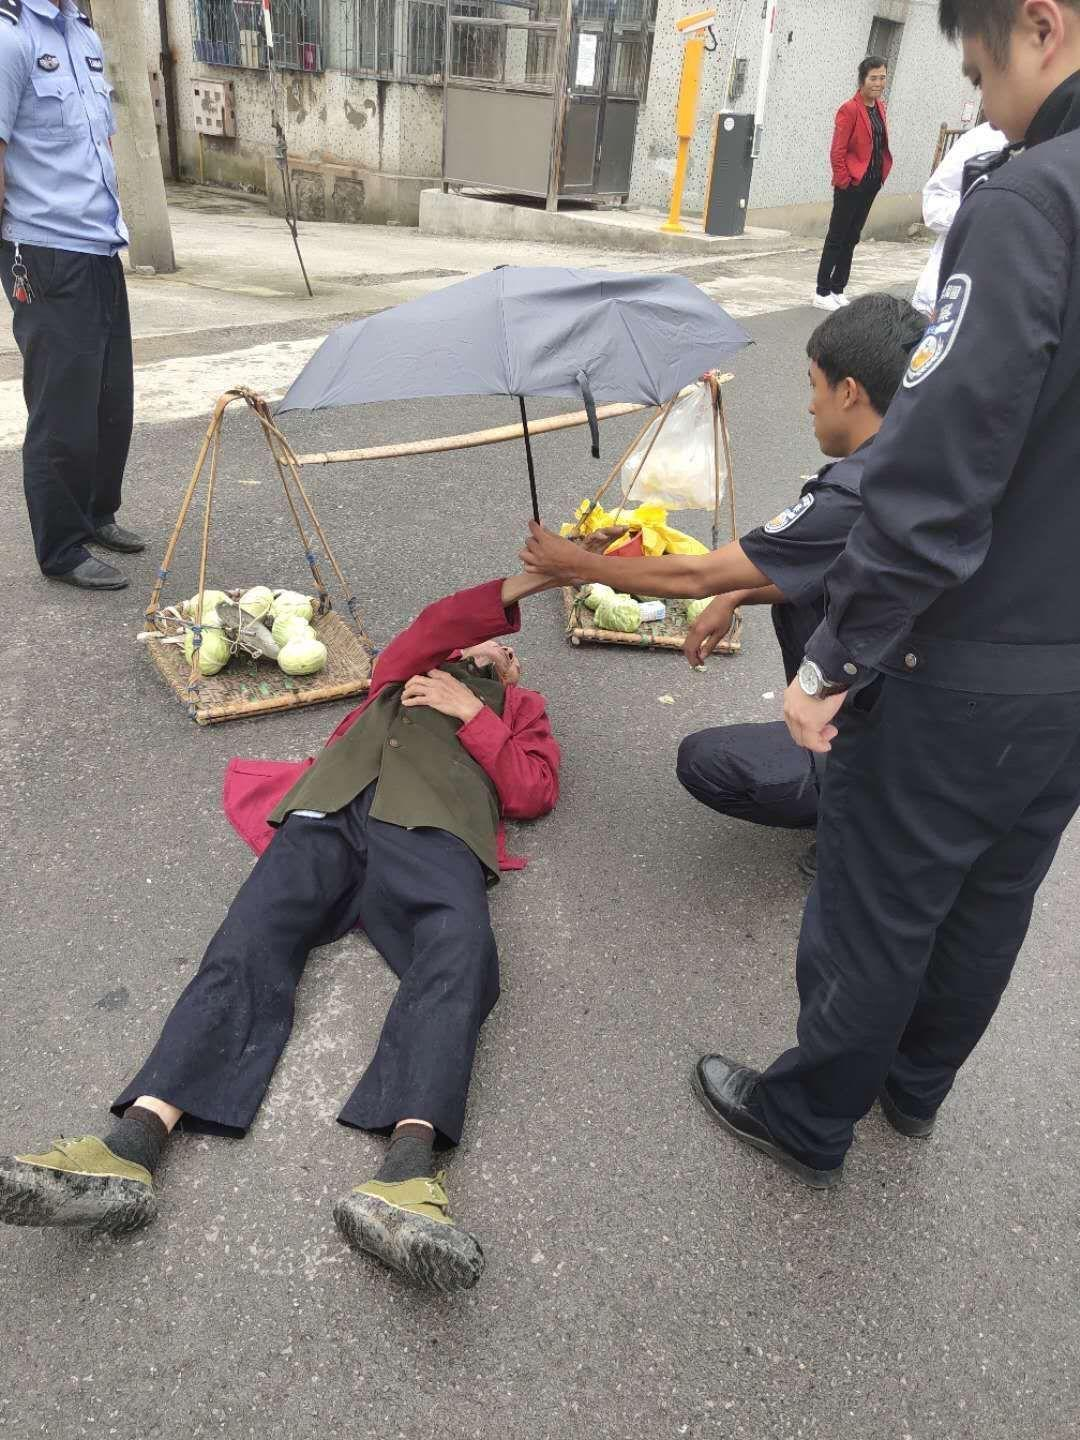bending: (517, 276, 961, 917)
down: (1, 530, 560, 1286)
up: (697, 7, 1080, 1184), (1, 1, 206, 604), (783, 26, 905, 333)
